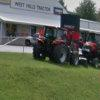Tractor: (28, 17, 100, 74)
